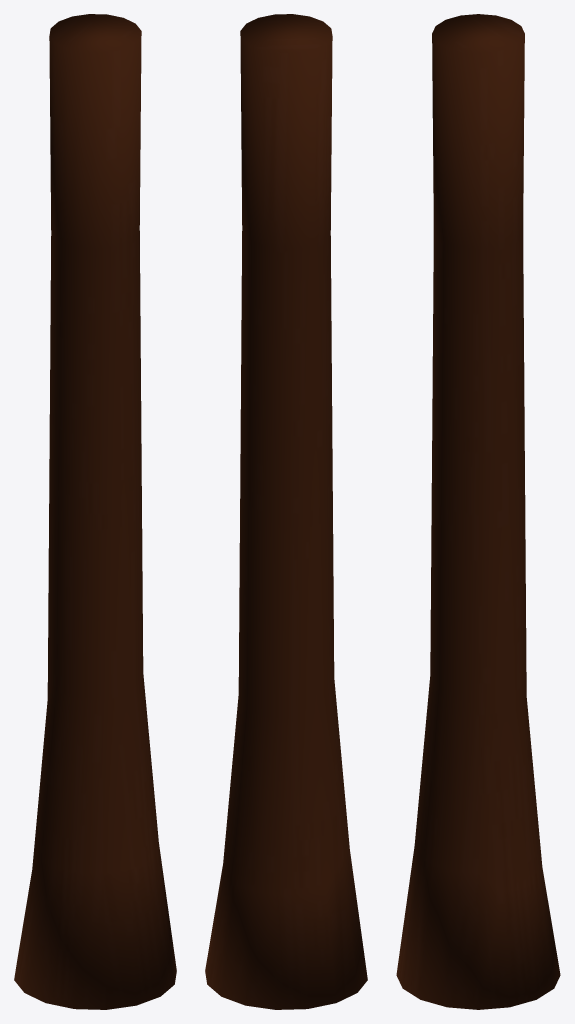
File: tree_3_trunk.obj
3 views of the same model, side by side, from view 1: azimuth 30°, elevation 25°; view 2: azimuth 150°, elevation 25°; view 3: azimuth 270°, elevation 25° (orthographic).
Parts seen in each view (by area): view 1: Cylinder; view 2: Cylinder; view 3: Cylinder.
Part boxes in pixels (x1=…): Cylinder: x1=14, y1=14, x2=176, y2=1009; Cylinder: x1=205, y1=14, x2=367, y2=1009; Cylinder: x1=396, y1=14, x2=560, y2=1009.
Size of the model in its own units: 0.7364 by 4.66 by 0.7364.
